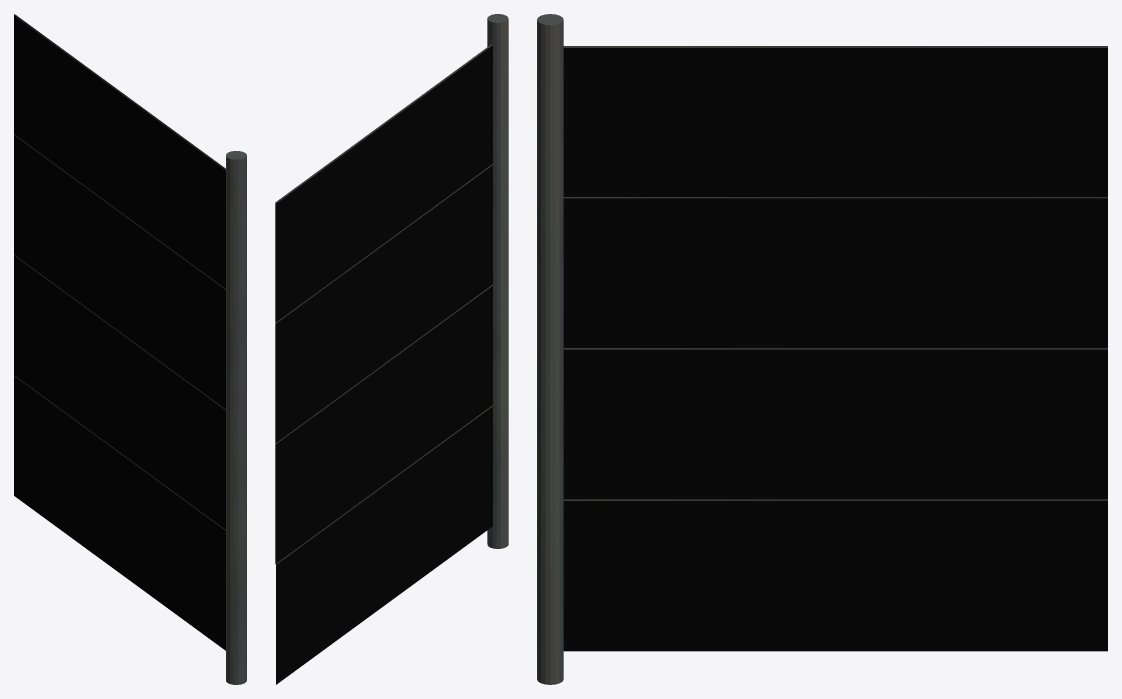
File: Map.fbx
The picture shows the model from 3 angles, left to right: view 1: azimuth 30°, elevation 25°; view 2: azimuth 150°, elevation 25°; view 3: azimuth 270°, elevation 25°; orthographic projection. The views are drawn at different scales.
Visible parts, largest first — view 1: School001; view 2: School001; view 3: School001.
Part boxes in pixels (left/top/right/bottom): School001: left=14, top=14, right=246, bottom=684; School001: left=275, top=14, right=508, bottom=684; School001: left=537, top=14, right=1107, bottom=684.
Size of the model in its own units: 0.4807 by 13.14 by 10.3.
Materials: 2 (2 with a texture image).
